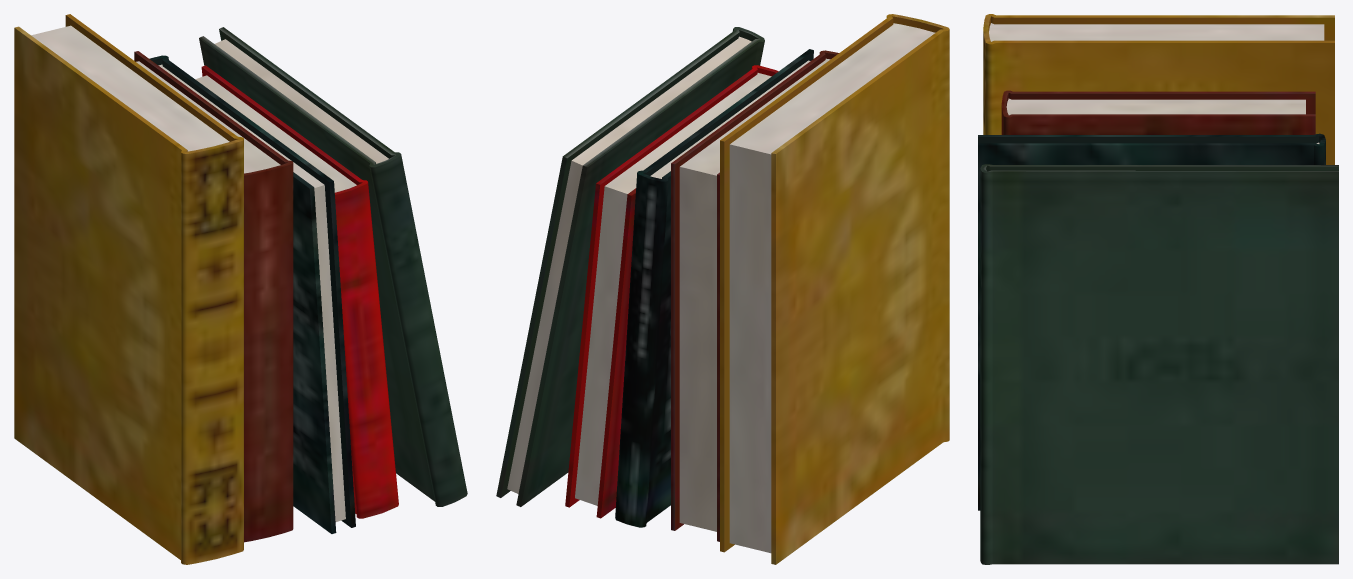
The model's file is cargo_books_c.glb.
3 renders of one model, left to right at view 1: azimuth 30°, elevation 25°; view 2: azimuth 150°, elevation 25°; view 3: azimuth 270°, elevation 25°, orthographic.
Parts seen in each view (by area): view 1: KB3D_API_PropBookset_C_Main; view 2: KB3D_API_PropBookset_C_Main; view 3: KB3D_API_PropBookset_C_Main.
Part boxes in pixels (x1,y1,x2,y2): KB3D_API_PropBookset_C_Main: (14,14,467,564); KB3D_API_PropBookset_C_Main: (496,14,949,564); KB3D_API_PropBookset_C_Main: (978,14,1338,564).
Size of the model in its own units: 0.1858 by 0.2596 by 0.2032.
Materials: 1 (1 with a texture image).
